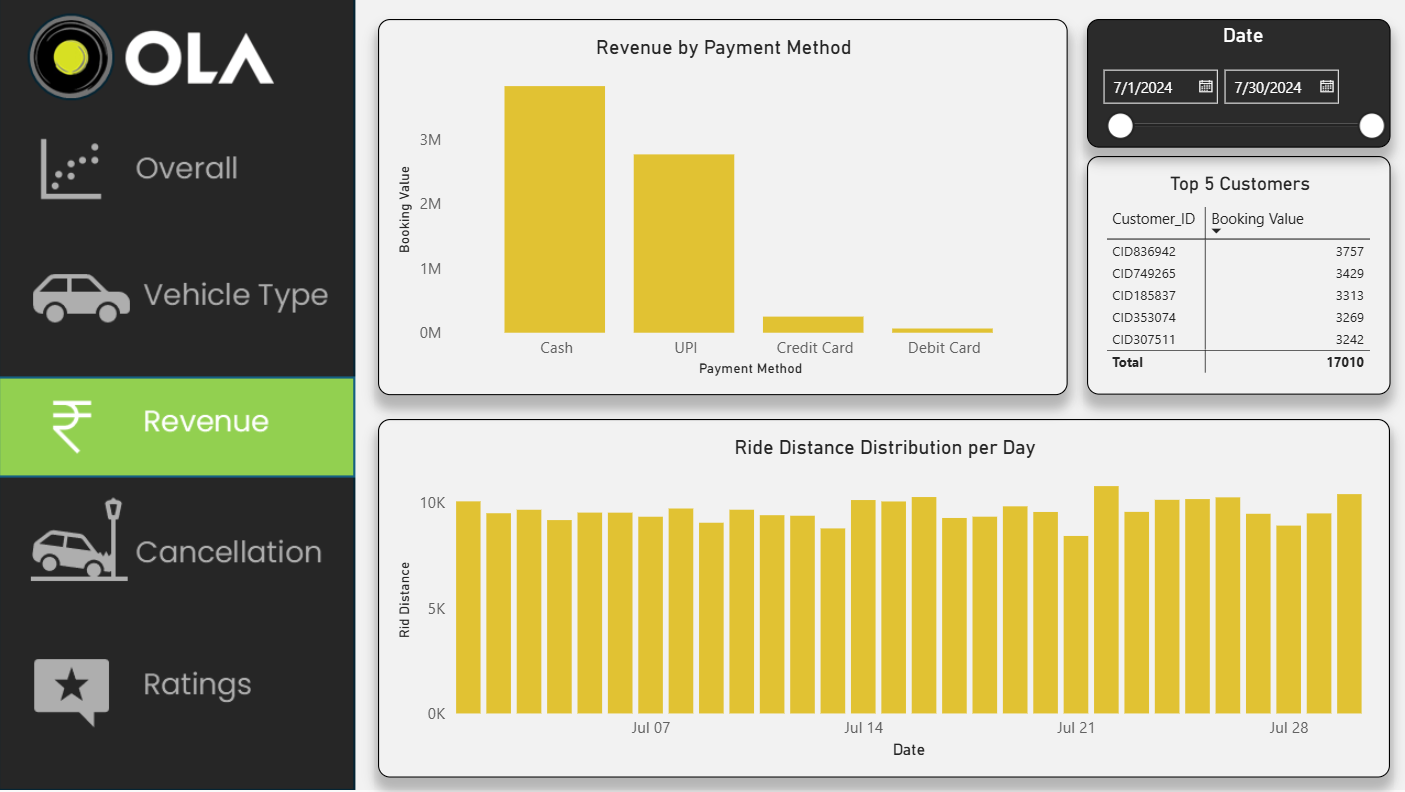

The page's visual inventory and layout, read from the dashboard file:
{"tool":"powerbi","page":{"name":"REVENUE ","canvas":[1280,720],"ordinal":2},"visuals":[{"type":"actionButton","box":[0,220,322.9,91.1],"z":0},{"type":"actionButton","box":[0,341.8,322.9,91.1],"z":1000},{"type":"actionButton","box":[0,446.4,322.7,90.9],"z":2000},{"type":"actionButton","box":[0,580.9,322.7,90.9],"z":3000},{"type":"actionButton","box":[0,111.8,322.7,90.9],"z":4000},{"type":"columnChart","title":"Revenue by Payment Method","fields":{"Category":["July.Payment_Method"],"Y":["Sum(July.Booking_Value)"]},"box":[345,17.4,626.6,342.2],"z":5000},{"type":"columnChart","title":"Ride Distance Distribution per Day","fields":{"Category":["July.Date"],"Y":["Sum(July.Ride_Distance)"]},"box":[345,380.7,920.2,325.7],"z":6000},{"type":"slicer","title":"Date","fields":{"Values":["July.Date"]},"box":[989,17.4,276.1,117.4],"z":7000},{"type":"tableEx","title":"Top 5 Customers","fields":{"Values":["July.Customer_ID","Sum(July.Booking_Value)"]},"box":[989,142.2,276.1,217.4],"z":8000}]}

Visuals, with their boxes in screenshot pixels (x1, y1, x2, y2), scaled from the page's 1280x720 canvas onto the 1405x792 screenshot:
actionButton: 0 242 354 342
actionButton: 0 376 354 476
actionButton: 0 491 354 591
actionButton: 0 639 354 739
actionButton: 0 123 354 223
"Revenue by Payment Method" columnChart: 379 19 1066 396
"Ride Distance Distribution per Day" columnChart: 379 419 1389 777
"Date" slicer: 1086 19 1389 148
"Top 5 Customers" tableEx: 1086 156 1389 396
